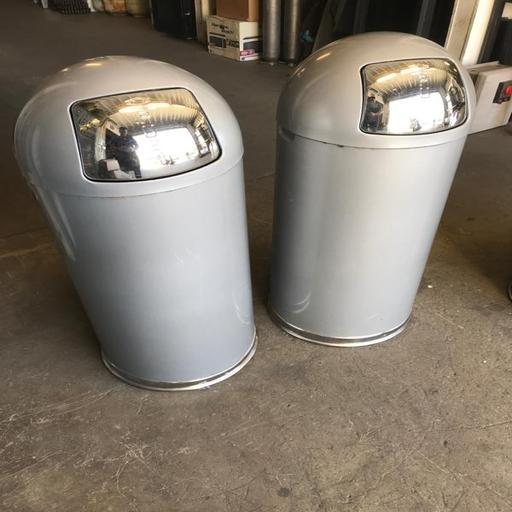Crewmate: (12, 54, 262, 391), (261, 28, 477, 344)
